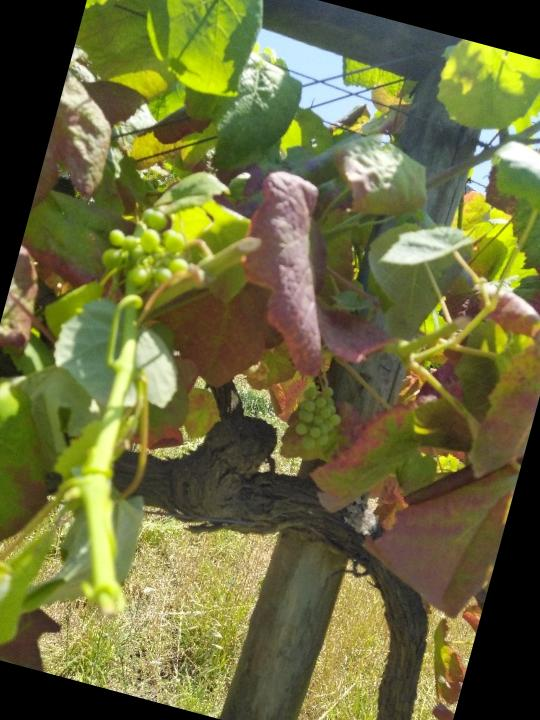grape: (93, 198, 201, 309), (281, 376, 350, 461)
